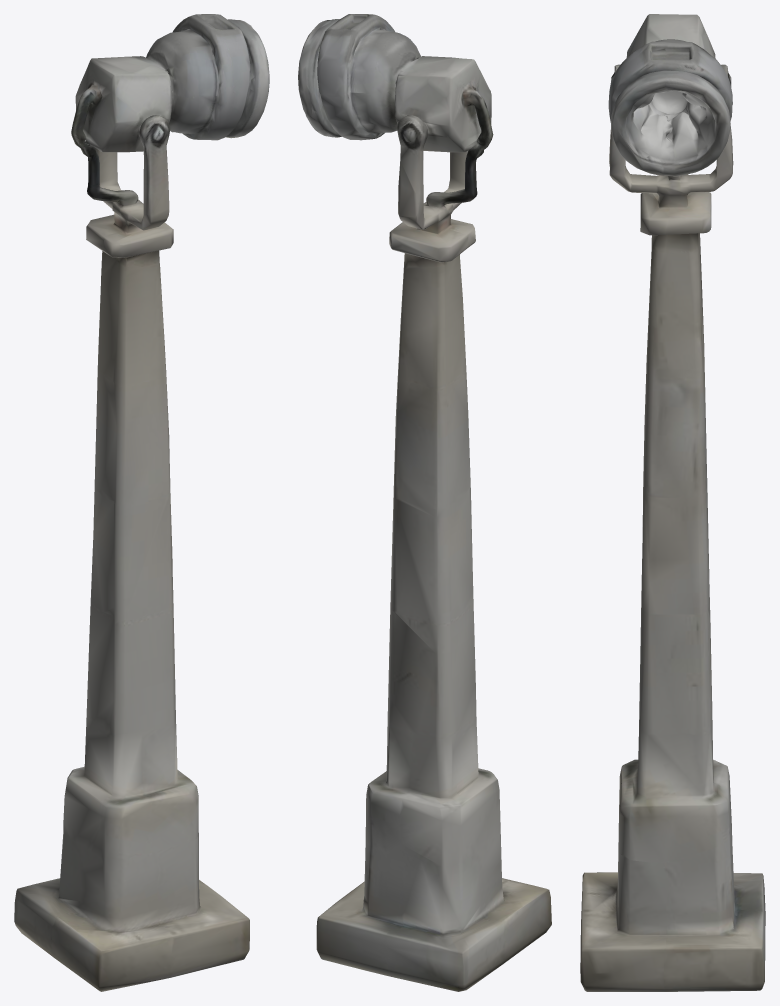
File: pylon.glb
The picture shows the model from 3 angles, left to right: view 1: azimuth 30°, elevation 25°; view 2: azimuth 150°, elevation 25°; view 3: azimuth 270°, elevation 25°; orthographic projection. The views are drawn at different scales.
Parts seen in each view (by area): view 1: tripo_node_a35221a1-3bdb-4d7e-b474-5f87206c706f; view 2: tripo_node_a35221a1-3bdb-4d7e-b474-5f87206c706f; view 3: tripo_node_a35221a1-3bdb-4d7e-b474-5f87206c706f.
Boxes of the visible parts, <box> form: tripo_node_a35221a1-3bdb-4d7e-b474-5f87206c706f: <box>14,14,269,991</box>; tripo_node_a35221a1-3bdb-4d7e-b474-5f87206c706f: <box>298,14,551,991</box>; tripo_node_a35221a1-3bdb-4d7e-b474-5f87206c706f: <box>580,14,765,991</box>.
Bounding box in the file's own units: 1.34 × 6 × 1.06.
1 material, 1 textured.
